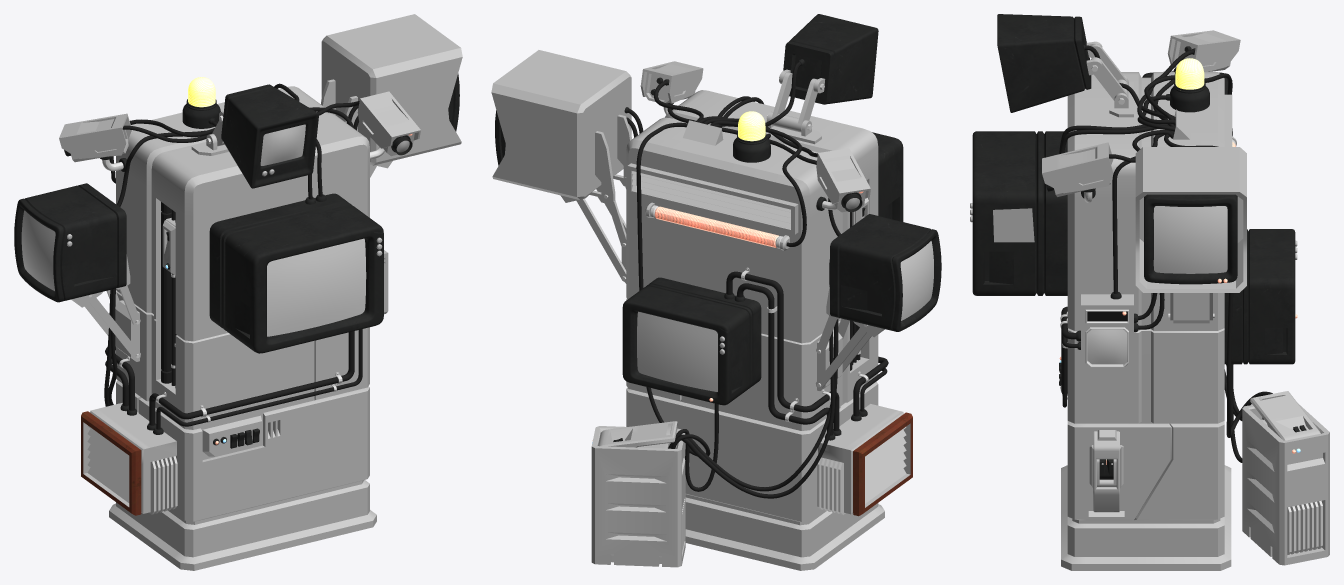
File: KB3D_CPP_PropSetNewsStand_A.fbx
3 views of the same model, side by side, from view 1: azimuth 30°, elevation 25°; view 2: azimuth 150°, elevation 25°; view 3: azimuth 270°, elevation 25° (orthographic). The views are drawn at different scales.
Visible parts, largest first — view 1: KB3D_CPP_PropSetNewsStand_A_Main, KB3D_CPP_PropSetNewsStand_A_ScreenA, KB3D_CPP_PropSetNewsStand_A_ScreenB, KB3D_CPP_PropSetNewsStand_A_ScreenD, KB3D_CPP_PropSetNewsStand_A_ScreenC, KB3D_CPP_PropSetNewsStand_A_CameraB, KB3D_CPP_PropSetNewsStand_A_CameraA; view 2: KB3D_CPP_PropSetNewsStand_A_Main, KB3D_CPP_PropSetNewsStand_A_ScreenD, KB3D_CPP_PropSetNewsStand_A_ScreenB, KB3D_CPP_PropSetNewsStand_A_Computer, KB3D_CPP_PropSetNewsStand_A_ScreenC, KB3D_CPP_PropSetNewsStand_A_CameraB, KB3D_CPP_PropSetNewsStand_A_ScreenA, KB3D_CPP_PropSetNewsStand_A_CameraA; view 3: KB3D_CPP_PropSetNewsStand_A_Main, KB3D_CPP_PropSetNewsStand_A_ScreenD, KB3D_CPP_PropSetNewsStand_A_ScreenA, KB3D_CPP_PropSetNewsStand_A_Computer, KB3D_CPP_PropSetNewsStand_A_ScreenC, KB3D_CPP_PropSetNewsStand_A_CameraA, KB3D_CPP_PropSetNewsStand_A_CameraB, KB3D_CPP_PropSetNewsStand_A_ScreenB.
Part boxes in pixels (x1=…): KB3D_CPP_PropSetNewsStand_A_Main: x1=81, y1=77, x2=388, y2=570; KB3D_CPP_PropSetNewsStand_A_ScreenA: x1=209, y1=139, x2=383, y2=353; KB3D_CPP_PropSetNewsStand_A_ScreenB: x1=14, y1=130, x2=205, y2=406; KB3D_CPP_PropSetNewsStand_A_ScreenD: x1=321, y1=14, x2=462, y2=177; KB3D_CPP_PropSetNewsStand_A_ScreenC: x1=191, y1=84, x2=318, y2=188; KB3D_CPP_PropSetNewsStand_A_CameraB: x1=59, y1=113, x2=211, y2=171; KB3D_CPP_PropSetNewsStand_A_CameraA: x1=317, y1=91, x2=420, y2=159; KB3D_CPP_PropSetNewsStand_A_Main: x1=622, y1=90, x2=912, y2=570; KB3D_CPP_PropSetNewsStand_A_ScreenD: x1=491, y1=50, x2=643, y2=283; KB3D_CPP_PropSetNewsStand_A_ScreenB: x1=668, y1=127, x2=941, y2=498; KB3D_CPP_PropSetNewsStand_A_Computer: x1=591, y1=122, x2=718, y2=567; KB3D_CPP_PropSetNewsStand_A_ScreenC: x1=713, y1=14, x2=878, y2=144; KB3D_CPP_PropSetNewsStand_A_CameraB: x1=703, y1=118, x2=870, y2=212; KB3D_CPP_PropSetNewsStand_A_ScreenA: x1=718, y1=96, x2=903, y2=221; KB3D_CPP_PropSetNewsStand_A_CameraA: x1=640, y1=61, x2=703, y2=121; KB3D_CPP_PropSetNewsStand_A_Main: x1=1059, y1=58, x2=1297, y2=570; KB3D_CPP_PropSetNewsStand_A_ScreenD: x1=1134, y1=147, x2=1246, y2=332; KB3D_CPP_PropSetNewsStand_A_ScreenA: x1=970, y1=124, x2=1168, y2=295; KB3D_CPP_PropSetNewsStand_A_Computer: x1=1164, y1=131, x2=1329, y2=565; KB3D_CPP_PropSetNewsStand_A_ScreenC: x1=997, y1=14, x2=1175, y2=120; KB3D_CPP_PropSetNewsStand_A_CameraA: x1=1042, y1=130, x2=1173, y2=202; KB3D_CPP_PropSetNewsStand_A_CameraB: x1=1137, y1=30, x2=1240, y2=124; KB3D_CPP_PropSetNewsStand_A_ScreenB: x1=1142, y1=68, x2=1263, y2=420.
Bounding box in the file's own units: 219 × 236 × 161.
